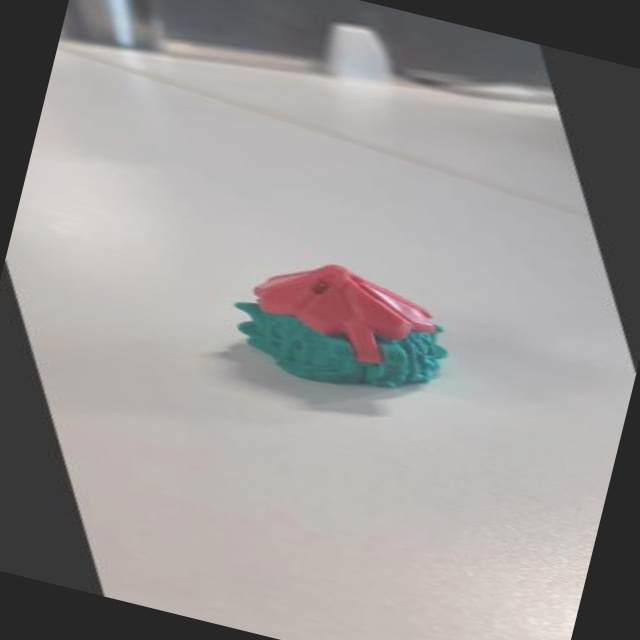House: (170, 213, 500, 430)
